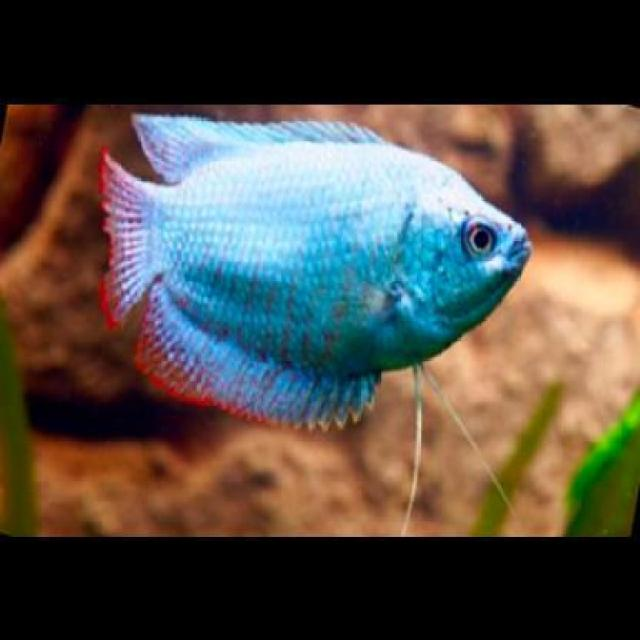Gourami: (98, 107, 530, 422)
